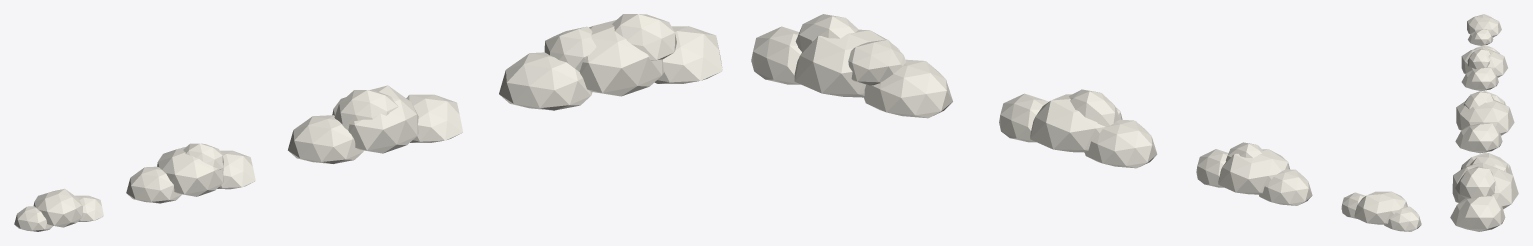
File: FMS_Mach_Demo_Clouds.fbx
The picture shows the model from 3 angles, left to right: view 1: azimuth 30°, elevation 25°; view 2: azimuth 150°, elevation 25°; view 3: azimuth 270°, elevation 25°; orthographic projection. The views are drawn at different scales.
Parts seen in each view (by area): view 1: Cloud_A, Cloud_B, Cloud_C, Cloud_D; view 2: Cloud_A, Cloud_B, Cloud_C, Cloud_D; view 3: Cloud_A, Cloud_B, Cloud_C, Cloud_D.
Boxes of the visible parts, x1,y1,x2,y2 form: Cloud_A: (499,14,722,110); Cloud_B: (288,85,462,163); Cloud_C: (126,143,255,203); Cloud_D: (14,189,103,231); Cloud_A: (751,14,952,118); Cloud_B: (999,89,1157,168); Cloud_C: (1196,142,1312,205); Cloud_D: (1341,191,1421,231); Cloud_A: (1450,152,1518,231); Cloud_B: (1455,91,1514,153); Cloud_C: (1461,45,1507,90); Cloud_D: (1467,14,1501,45).
Size of the model in its own units: 52.6 by 5.08 by 7.16.
